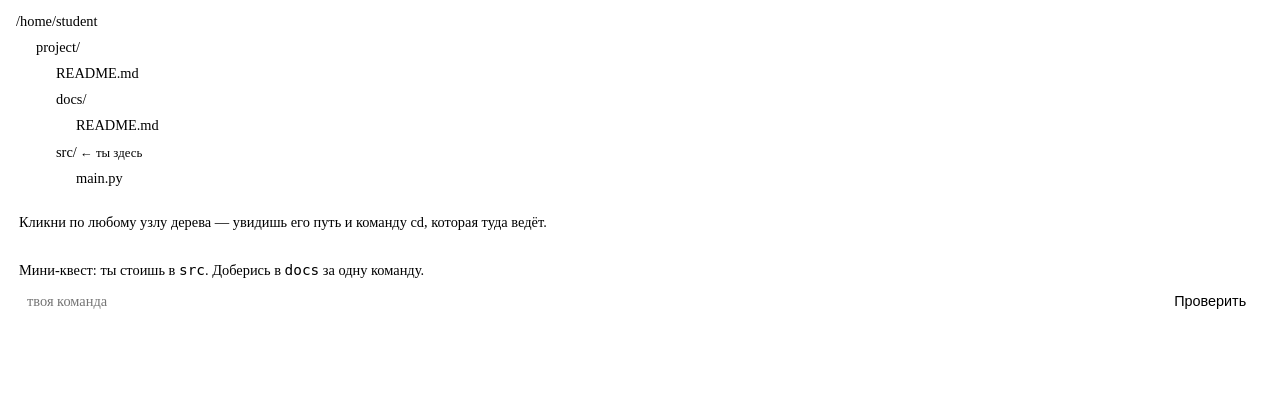
it: следующий клик считает cd уже от нового текущего каталога
Click the button "docs/" at (71, 100), box [47, 88, 95, 112]
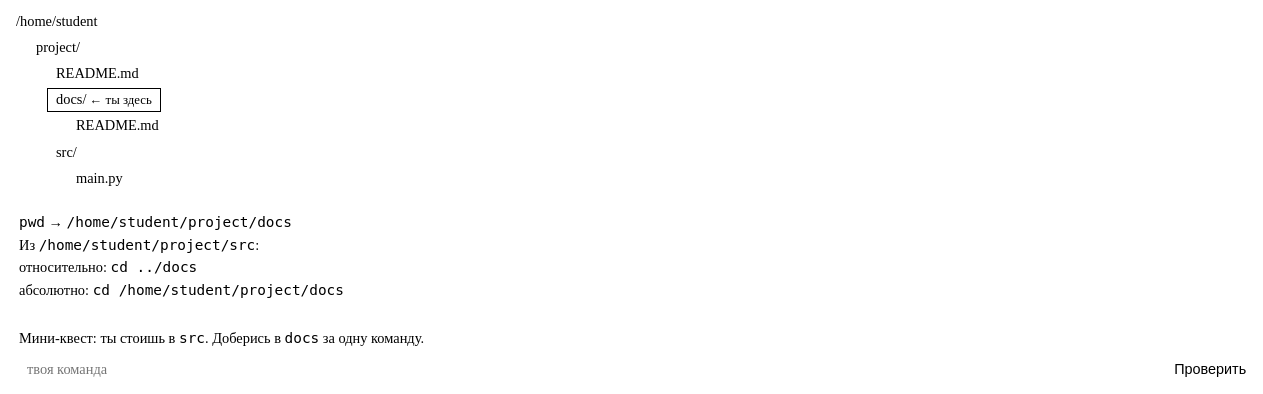
Click the button "src/" at (66, 152), box [47, 140, 86, 164]
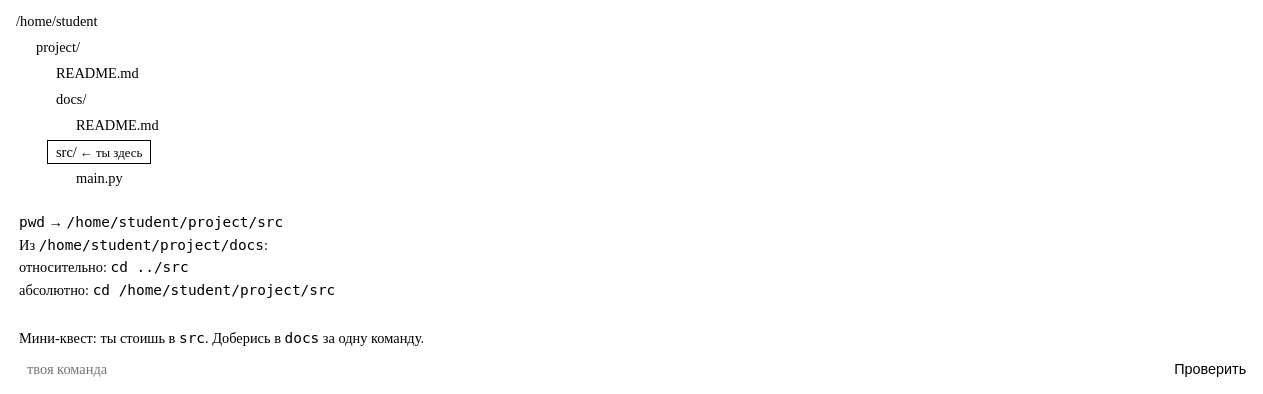
Expected: the text "cd ../src" is shown, [111, 259, 189, 275]
